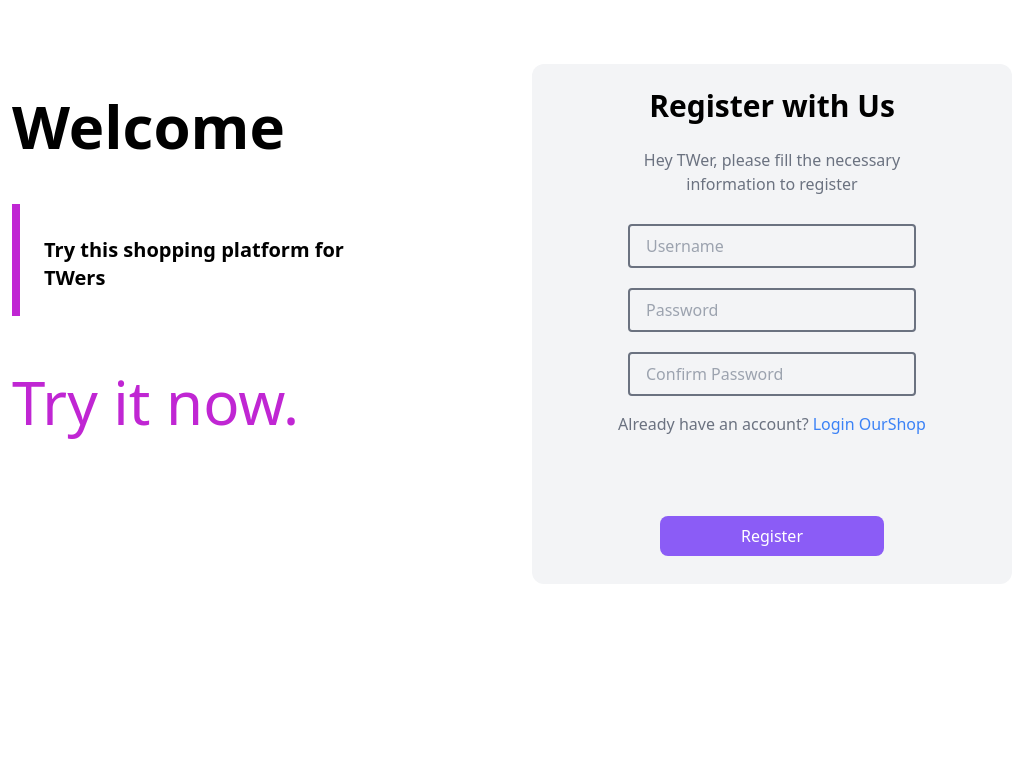
it: display register page › should show register successful banner when information is filled correctly
Type "tom" into the field with test id "username".
click(772, 246); type("tom")  # box 628,224 -> 916,268
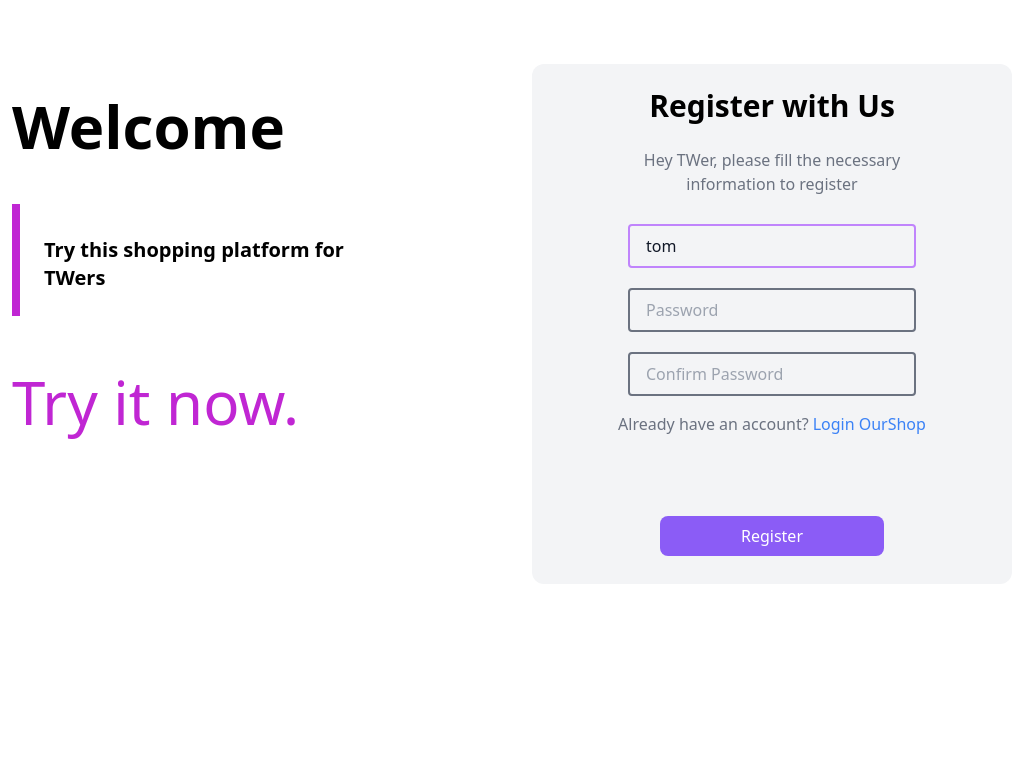
Type "111" into the password field with test id "password".
click(772, 310); type("111")  # box 628,288 -> 916,332
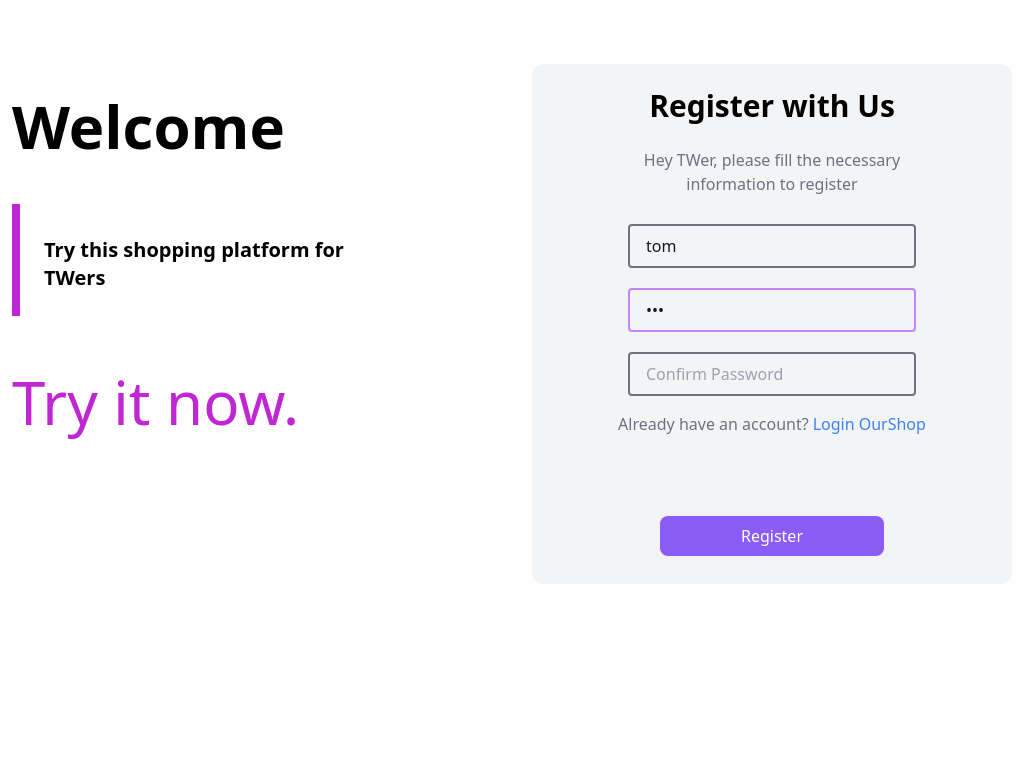
Type "111" into the password field with test id "confirmPassword".
click(772, 374); type("111")  # box 628,352 -> 916,396
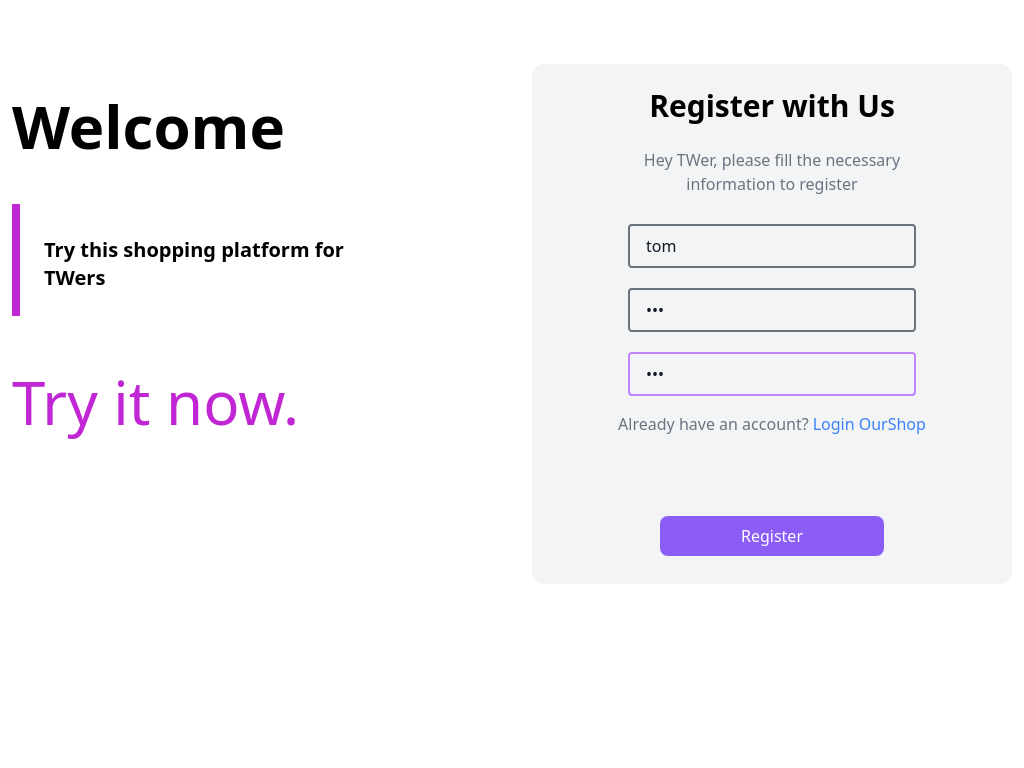
Click the button with test id "register-btn".
click(772, 536)  # box 660,516 -> 884,556
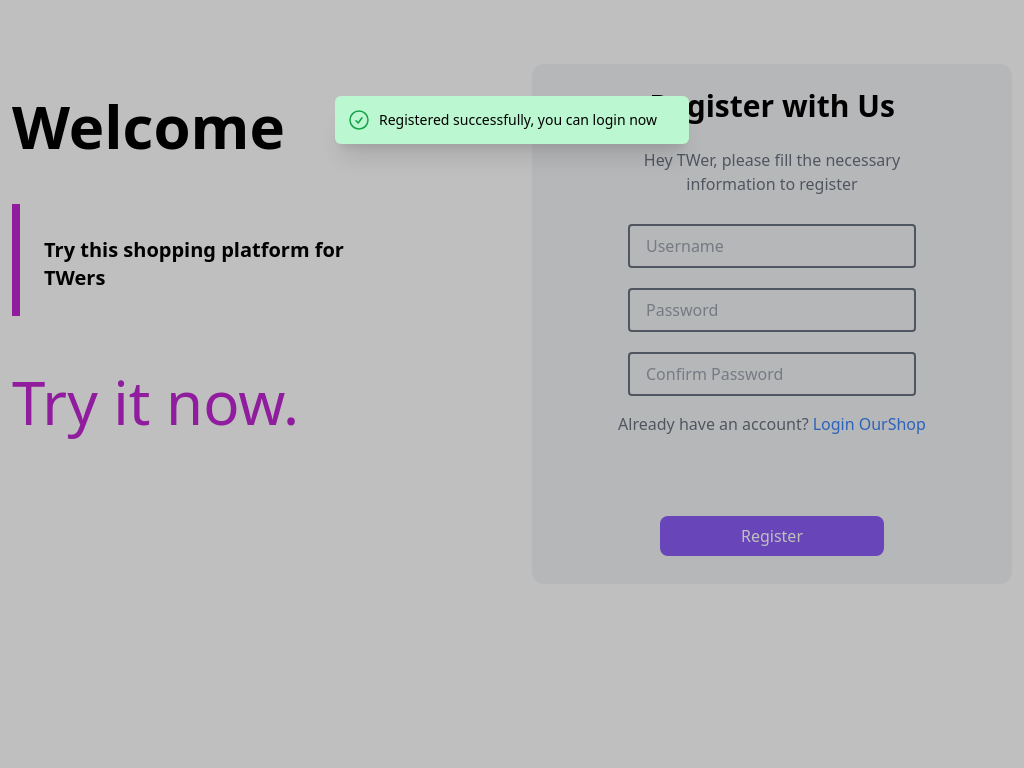
Now the text "Registered successfully, you can login now" is shown, box 347,108 -> 677,132
